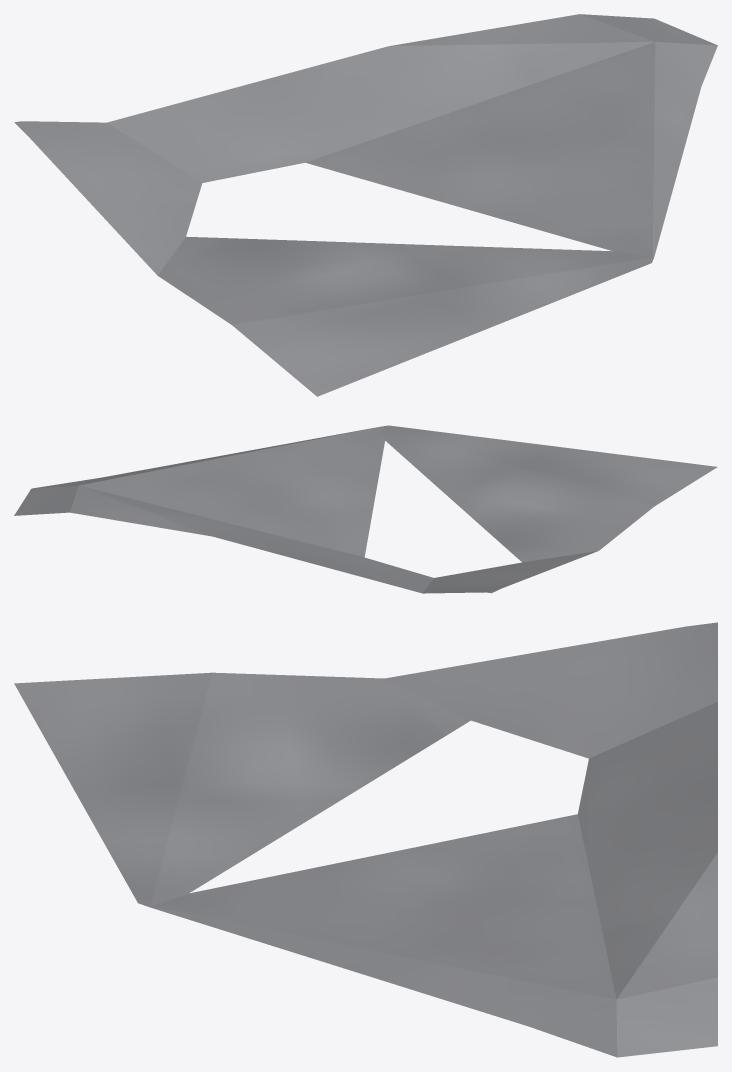
3 renders of one model, top to bottom at view 1: azimuth 30°, elevation 25°; view 2: azimuth 150°, elevation 25°; view 3: azimuth 270°, elevation 25°, orthographic. The views are drawn at different scales.
Bounding box in the file's own units: 0.2126 × 0.0162 × 0.169.
Materials: 1 (1 with a texture image).
